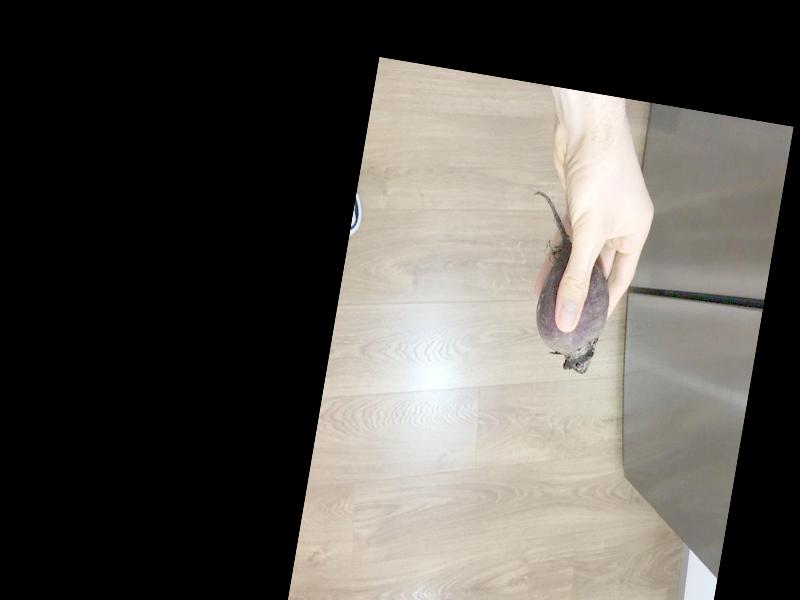Beet: (505, 192, 625, 377)
